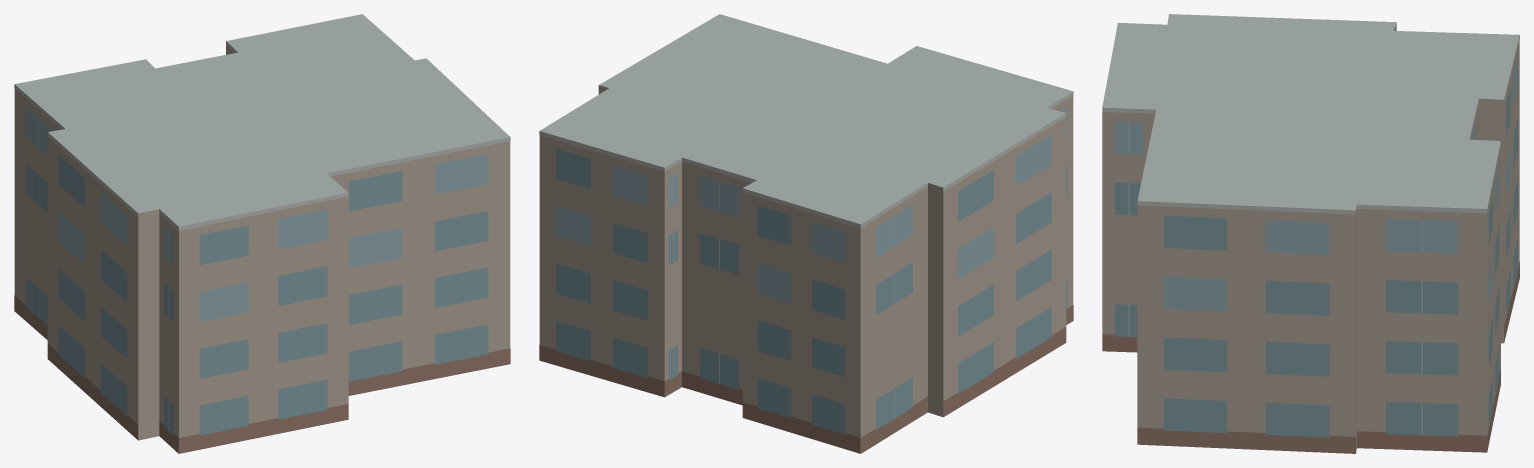
File: survey-upis-32997690.glb
3 renders of one model, left to right at view 1: azimuth 30°, elevation 25°; view 2: azimuth 150°, elevation 25°; view 3: azimuth 270°, elevation 25°, orthographic. The views are drawn at different scales.
Visible parts, largest first — view 1: survey-upis-32997690.tmp; view 2: survey-upis-32997690.tmp; view 3: survey-upis-32997690.tmp.
Boxes of the visible parts, x1=… form: survey-upis-32997690.tmp: x1=14, y1=14, x2=510, y2=453; survey-upis-32997690.tmp: x1=539, y1=14, x2=1073, y2=453; survey-upis-32997690.tmp: x1=1102, y1=14, x2=1519, y2=453.
Size of the model in its own units: 23.7 by 13.7 by 21.3.
